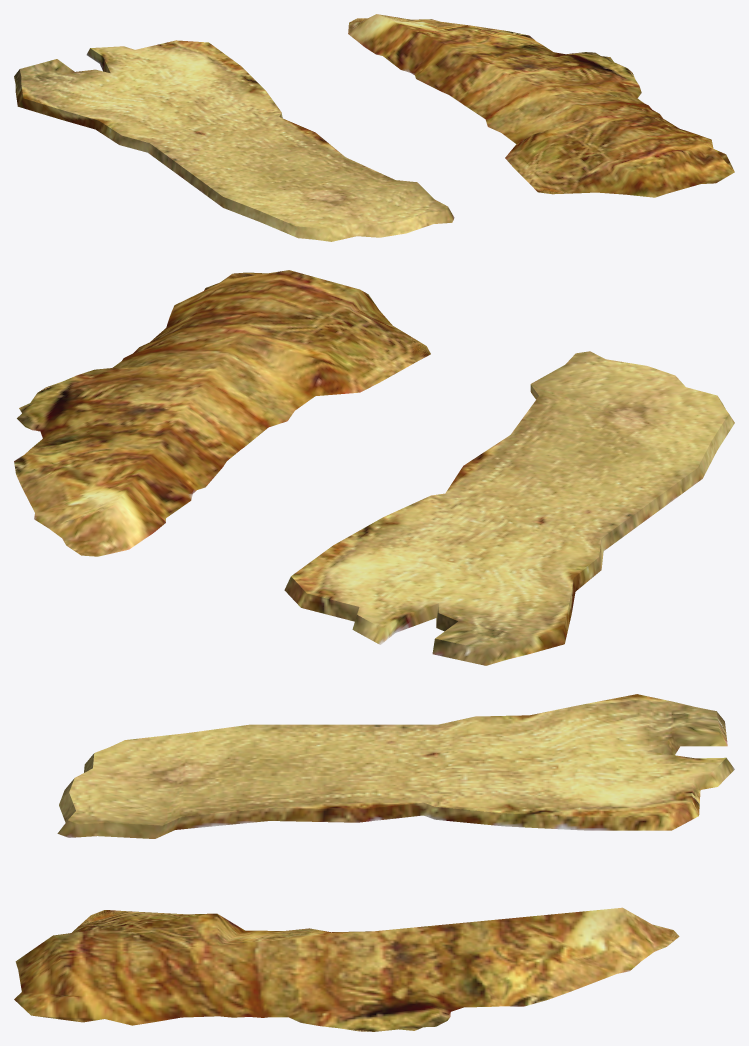
File: zhimu.FBX
The picture shows the model from 3 angles, top to bottom: view 1: azimuth 30°, elevation 25°; view 2: azimuth 150°, elevation 25°; view 3: azimuth 270°, elevation 25°; orthographic projection. The views are drawn at different scales.
Visible parts, largest first — view 1: Line001, Line002; view 2: Line001, Line002; view 3: Line001, Line002.
Part boxes in pixels (x1,y1,x2,y2): Line001: [14, 40, 454, 241]; Line002: [348, 14, 734, 197]; Line001: [284, 351, 734, 665]; Line002: [14, 270, 430, 556]; Line001: [57, 694, 734, 838]; Line002: [14, 907, 679, 1031].
Bounding box in the file's own units: 49.38 × 2.04 × 47.44.
